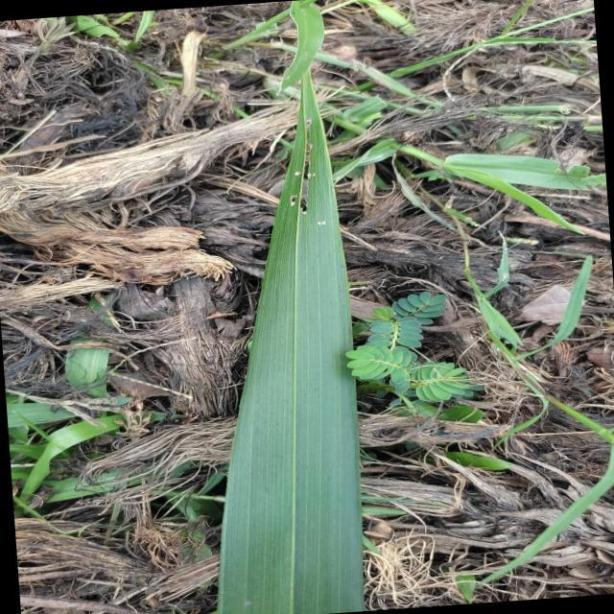Boron: (216, 5, 363, 614)
